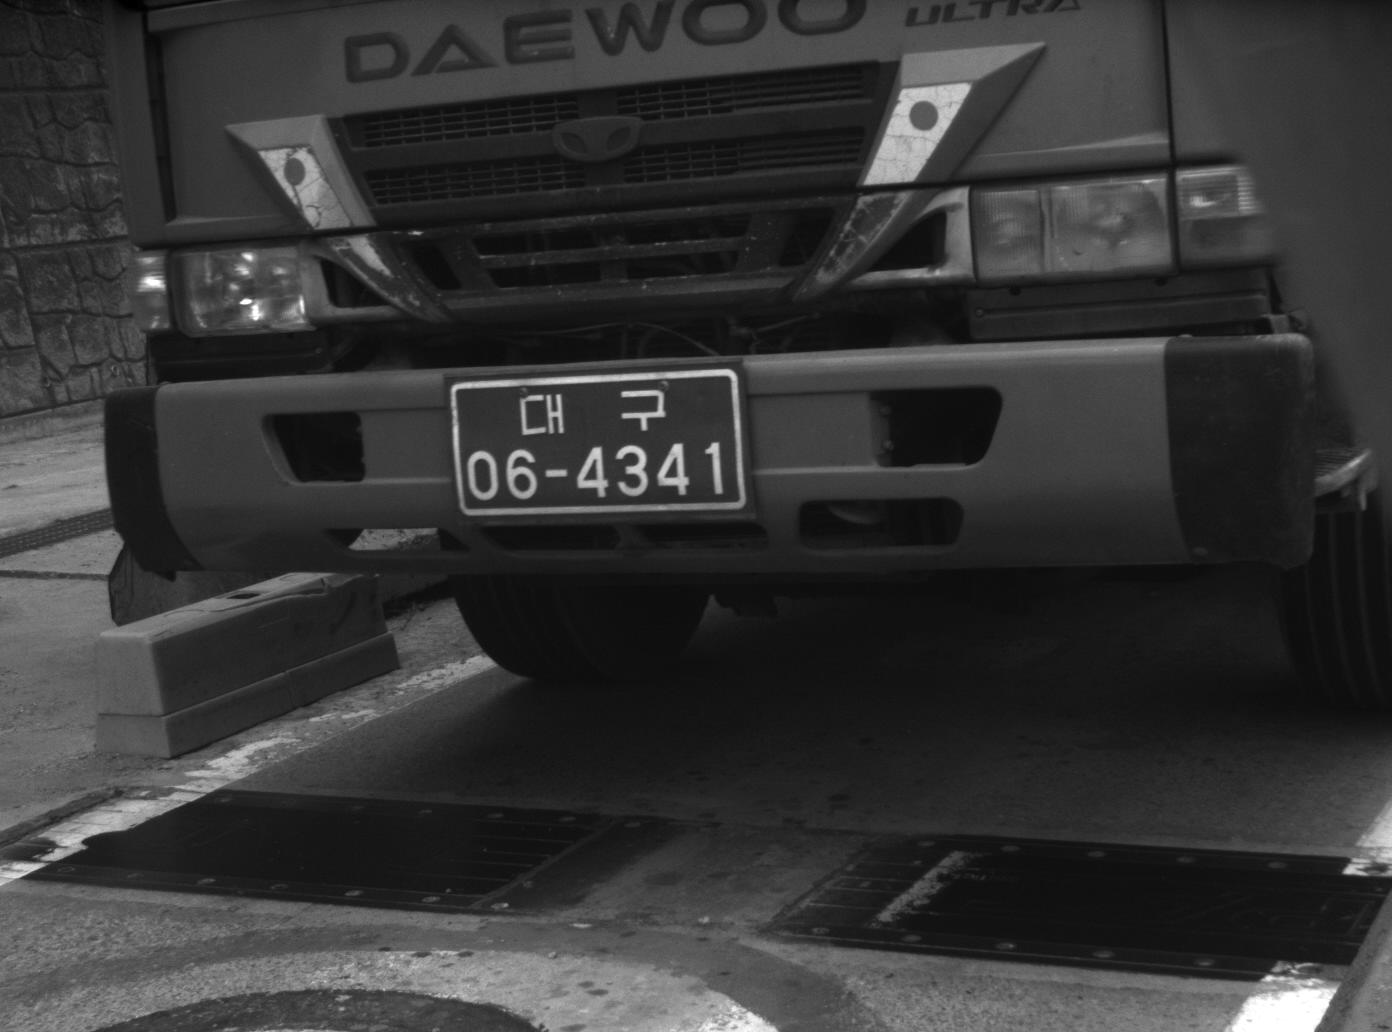car: (105, 3, 1392, 710)
plate: (442, 362, 754, 520)
